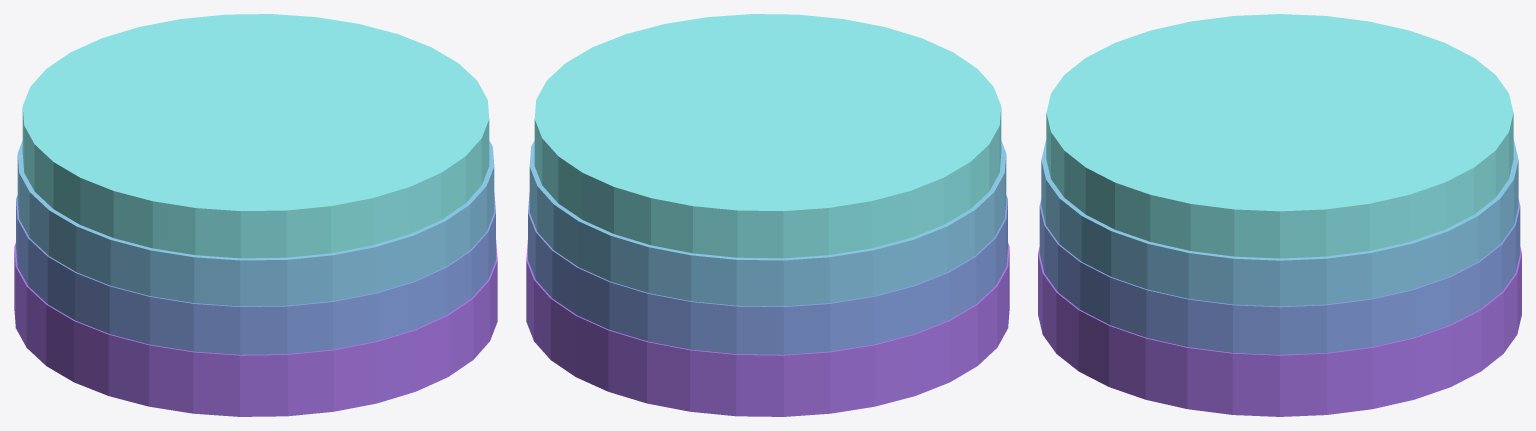
Rendered from bolocilindro cobertura AZUL.glb.
3 views of the same model, side by side, from view 1: azimuth 30°, elevation 25°; view 2: azimuth 150°, elevation 25°; view 3: azimuth 270°, elevation 25° (orthographic).
Parts seen in each view (by area): view 1: Cylinder.002, Cylinder.005, Cylinder.003, Cylinder.004; view 2: Cylinder.002, Cylinder.005, Cylinder.003, Cylinder.004; view 3: Cylinder.002, Cylinder.005, Cylinder.003, Cylinder.004.
Part boxes in pixels (box(x1,y1,x2,y2)): Cylinder.002: box(22, 14, 489, 258); Cylinder.005: box(14, 240, 497, 416); Cylinder.003: box(17, 141, 494, 306); Cylinder.004: box(16, 192, 495, 354); Cylinder.002: box(534, 14, 1001, 258); Cylinder.005: box(526, 240, 1009, 416); Cylinder.003: box(529, 141, 1006, 306); Cylinder.004: box(528, 192, 1007, 354); Cylinder.002: box(1046, 14, 1513, 258); Cylinder.005: box(1038, 247, 1521, 416); Cylinder.003: box(1041, 140, 1518, 306); Cylinder.004: box(1039, 199, 1520, 354).
Bounding box in the file's own units: 2.86 × 1.32 × 2.86.
